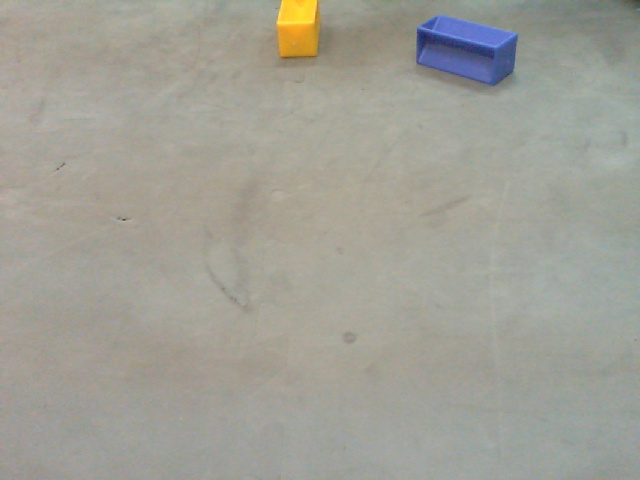BlueSample: (415, 14, 520, 89)
YellowSample: (275, 1, 319, 62)
